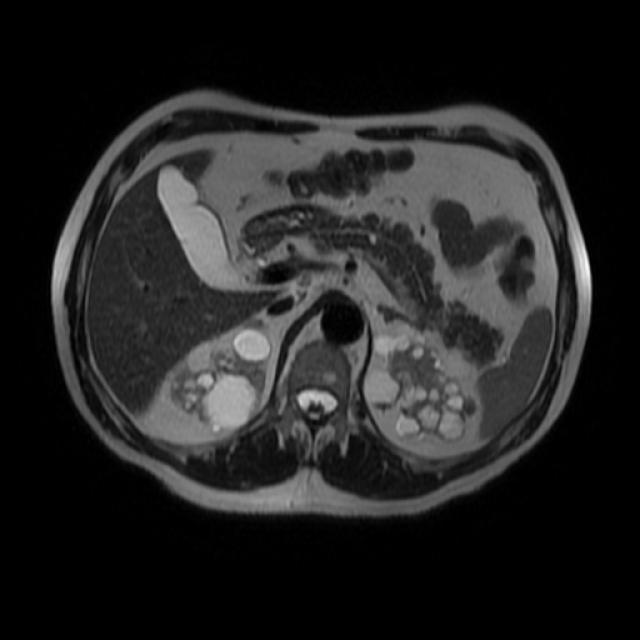sag: (167, 317, 271, 433)
sol: (366, 331, 479, 445)
